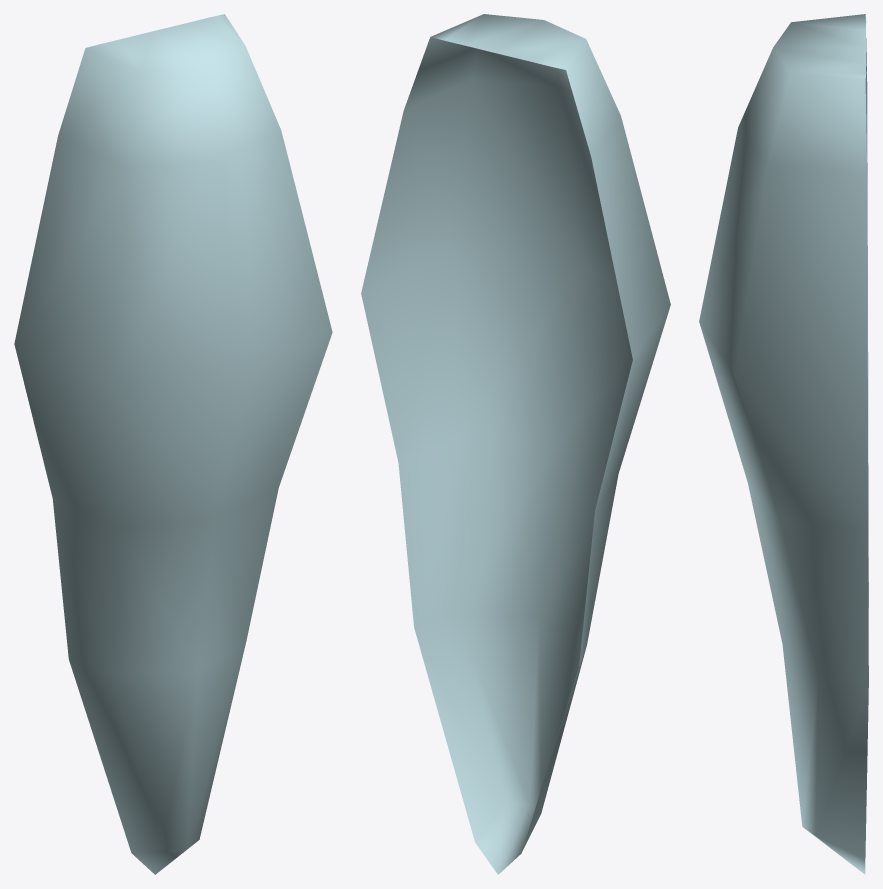
The model's file is Snow_Trim_Large_FrostyFields.fbx.
3 views of the same model, side by side, from view 1: azimuth 30°, elevation 25°; view 2: azimuth 150°, elevation 25°; view 3: azimuth 270°, elevation 25° (orthographic). The views are drawn at different scales.
Parts seen in each view (by area): view 1: Snow_Trim_Large_01; view 2: Snow_Trim_Large_01; view 3: Snow_Trim_Large_01.
Boxes of the visible parts, x1,y1,x2,y2 form: Snow_Trim_Large_01: (14,14,332,874); Snow_Trim_Large_01: (361,14,670,874); Snow_Trim_Large_01: (699,14,868,874).
Size of the model in its own units: 31.84 by 91.94 by 17.1.
